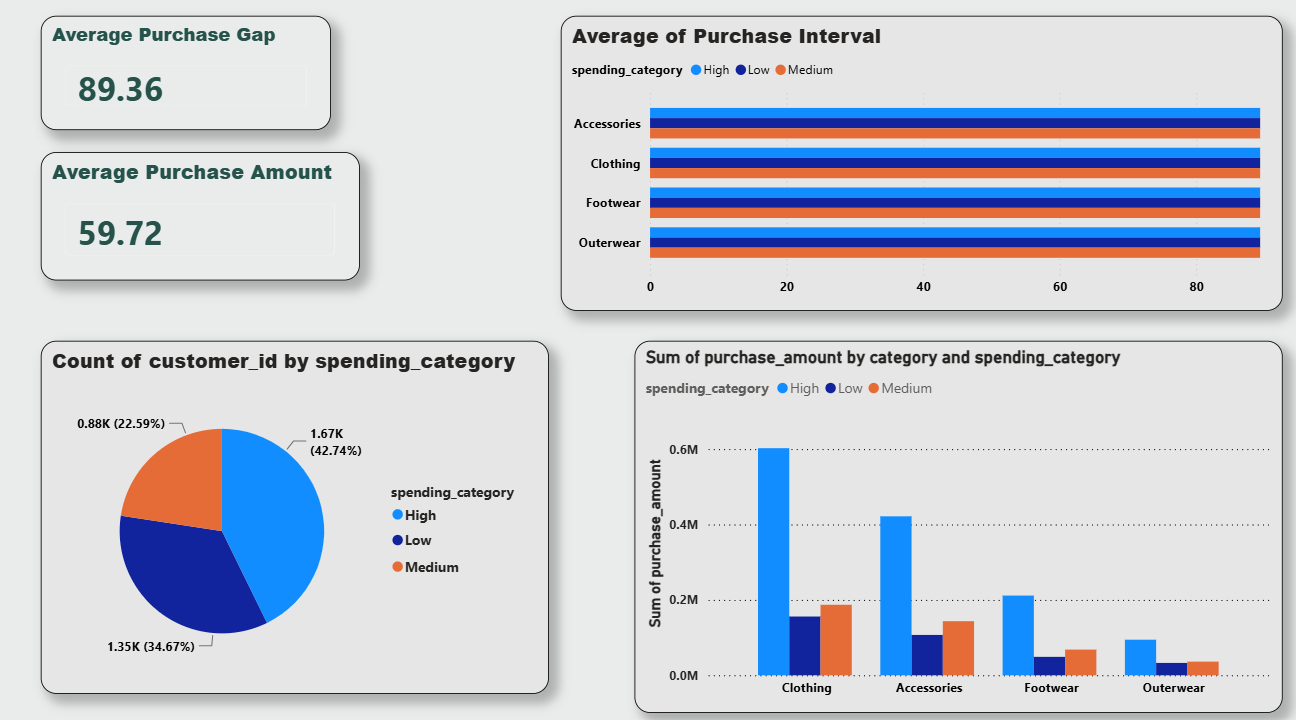

Layout of this report page (visuals, bound fields, positions):
{"tool":"powerbi","page":{"name":"Retention & Product Insights","canvas":[1280,720],"ordinal":2},"visuals":[{"type":"cardVisual","title":"Average Purchase Gap","fields":{"Data":["Avg(public view_customer_purchase_velocity.avg)"]},"box":[42.8,22.8,280,110],"z":0},{"type":"pieChart","fields":{"Category":["public view_customer_segments.spending_category"],"Y":["Count(public view_customer_segments.customer_id)"]},"box":[42.8,336.4,490.3,340.7],"z":1000},{"type":"clusteredColumnChart","fields":{"Category":["public view_customer_segments.category"],"Y":["Sum(public view_customer_segments.purchase_amount)"],"Series":["public view_customer_segments.spending_category"]},"box":[615.8,336.4,625.7,359.2],"z":2000},{"type":"cardVisual","title":"Average Purchase Amount","fields":{"Data":["Avg(public customer_data.purchase_amount)"]},"box":[42.8,153.9,307.9,124],"z":3000},{"type":"clusteredBarChart","title":"Average of Purchase Interval","fields":{"Category":["public customer_data.category"],"Y":["Avg(public view_customer_purchase_velocity.avg)"],"Series":["public view_customer_segments.spending_category"]},"box":[544.5,22.8,697,285.1],"z":4000}]}

Visuals, with their boxes in screenshot pixels (x1, y1, x2, y2), scaled from the page's 1280x720 canvas onto the 1296x720 screenshot:
"Average Purchase Gap" cardVisual: {"x1": 43, "y1": 23, "x2": 327, "y2": 133}
pieChart - public view_customer_segments.spending_category x Count(public view_customer_segments.customer_id): {"x1": 43, "y1": 336, "x2": 540, "y2": 677}
clusteredColumnChart - public view_customer_segments.category x Sum(public view_customer_segments.purchase_amount): {"x1": 623, "y1": 336, "x2": 1257, "y2": 696}
"Average Purchase Amount" cardVisual: {"x1": 43, "y1": 154, "x2": 355, "y2": 278}
"Average of Purchase Interval" clusteredBarChart: {"x1": 551, "y1": 23, "x2": 1257, "y2": 308}
